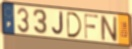3: (32, 9, 48, 36), (16, 7, 30, 35)
D: (66, 11, 83, 39)
F: (84, 14, 100, 41)
J: (51, 11, 65, 37)
N: (99, 14, 119, 44)
